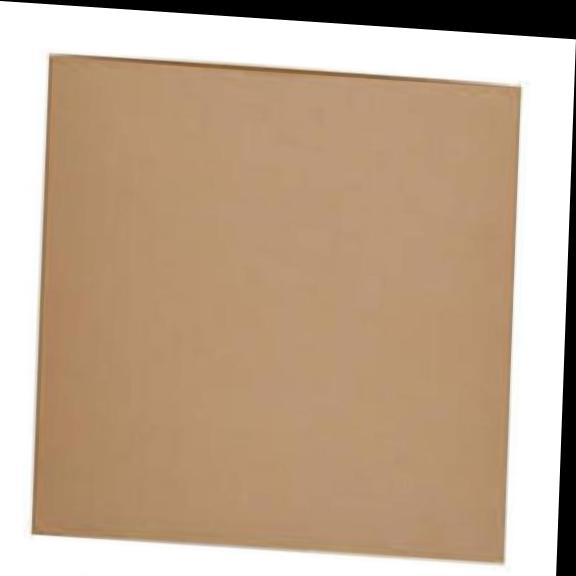Kertas: (26, 55, 520, 568)
